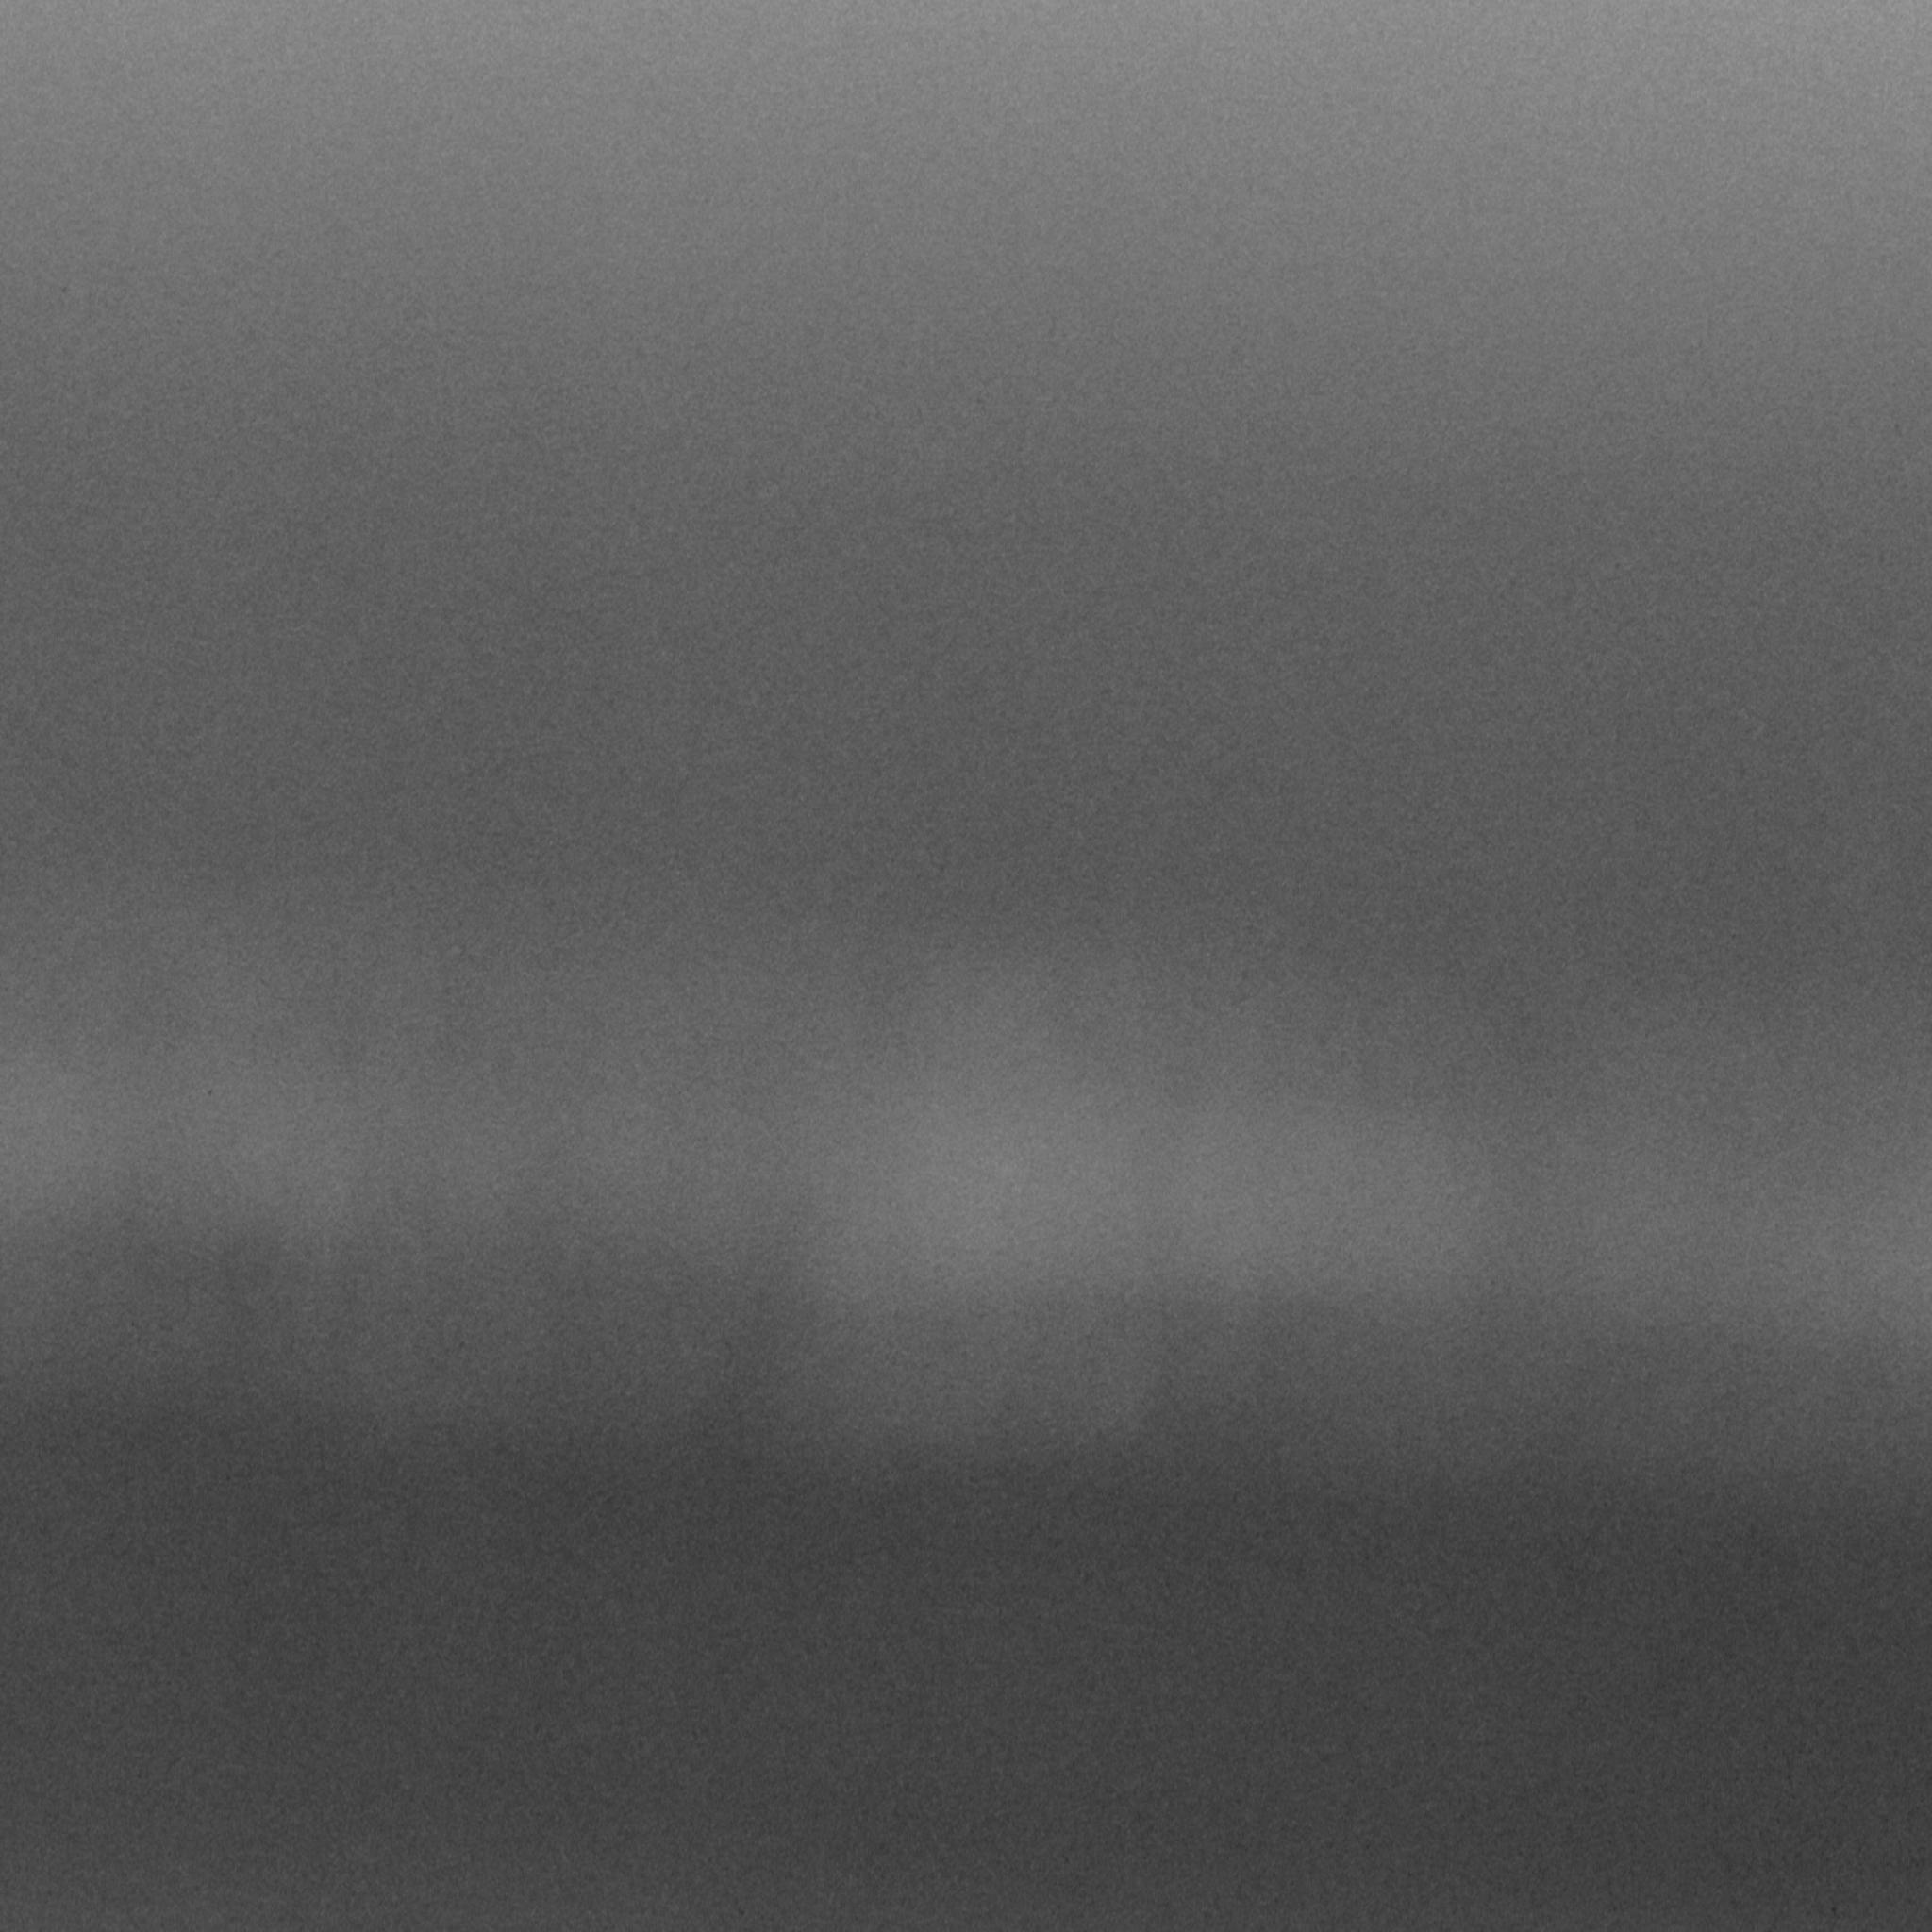Sem defeitos: (0, 753, 1932, 1624)
